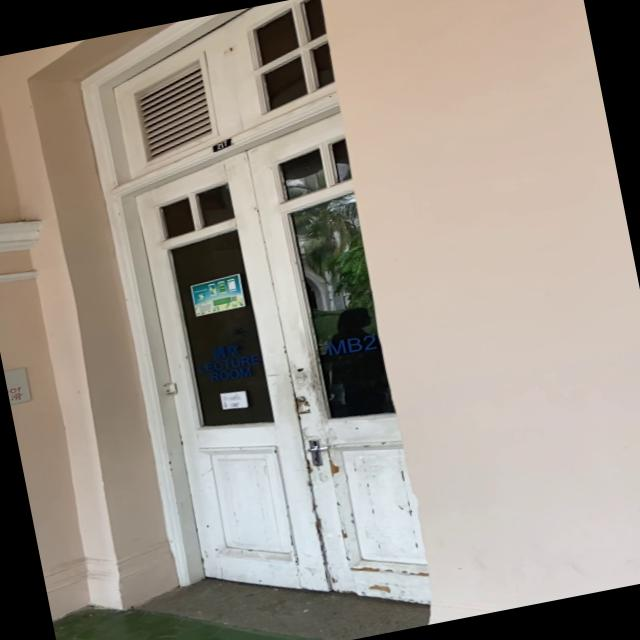room217: (209, 137, 234, 153)
